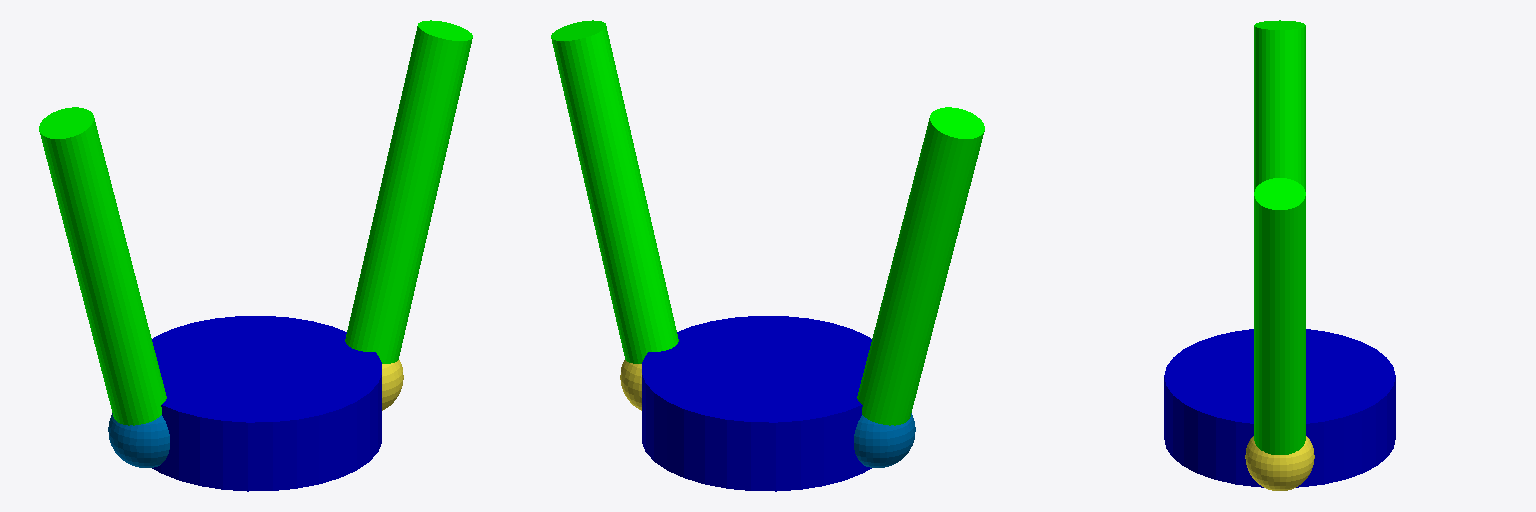
robot.urdf — gripper_2f_1j:
<?xml version='1.0' encoding='UTF-8'?>
<robot name="gripper_2f_1j">
  <link name="palm">
    <inertial>
      <origin xyz="0.0 0.0 0.0" rpy="0.0 -0.0 0.0"/>
      <mass value="1.0"/>
      <inertia ixx="1.0" ixy="0.0" ixz="0.0" iyy="1.0" iyz="0.0" izz="1.0"/>
    </inertial>
    <visual>
      <geometry>
        <cylinder radius="0.05" length="0.03"/>
      </geometry>
      <material name="blue"/>
      <origin xyz="0.0 0.0 0.0" rpy="0.0 -0.0 0.0"/>
    </visual>
    <collision>
      <geometry>
        <cylinder radius="0.05" length="0.03"/>
      </geometry>
      <origin xyz="0.0 0.0 0.0" rpy="0.0 0.0 0.0"/>
    </collision>
  </link>
  <link name="f11">
    <inertial>
      <origin xyz="0.0 0.0 0.0" rpy="0.0 -0.0 0.0"/>
      <mass value="1.0"/>
      <inertia ixx="1.0" ixy="0.0" ixz="0.0" iyy="1.0" iyz="0.0" izz="1.0"/>
    </inertial>
    <visual>
      <geometry>
        <cylinder radius="0.011155276690076148" length="0.14670515770586923"/>
      </geometry>
      <material name="green"/>
      <origin xyz="0.0 0.0 0.07335257885293461" rpy="0.0 -0.0 0.0"/>
    </visual>
    <collision>
      <geometry>
        <cylinder radius="0.011155276690076148" length="0.14670515770586923"/>
      </geometry>
      <origin xyz="0.0 0.0 0.05" rpy="0.0 0.0 0.0"/>
    </collision>
  </link>
  <link name="f21">
    <inertial>
      <origin xyz="0.0 0.0 0.0" rpy="0.0 -0.0 0.0"/>
      <mass value="1.0"/>
      <inertia ixx="1.0" ixy="0.0" ixz="0.0" iyy="1.0" iyz="0.0" izz="1.0"/>
    </inertial>
    <visual>
      <geometry>
        <cylinder radius="0.011155276690076148" length="0.14670515770586923"/>
      </geometry>
      <material name="green"/>
      <origin xyz="0.0 0.0 0.07335257885293461" rpy="0.0 -0.0 0.0"/>
    </visual>
    <collision>
      <geometry>
        <cylinder radius="0.011155276690076148" length="0.14670515770586923"/>
      </geometry>
      <origin xyz="0.0 0.0 0.05" rpy="0.0 0.0 0.0"/>
    </collision>
  </link>
  <link name="f11_base">
    <inertial>
      <origin xyz="0.0 0.0 0.0" rpy="0.0 -0.0 0.0"/>
      <mass value="1.0"/>
      <inertia ixx="1.0" ixy="0.0" ixz="0.0" iyy="1.0" iyz="0.0" izz="1.0"/>
    </inertial>
    <visual>
      <geometry>
        <sphere radius="0.015"/>
      </geometry>
      <origin xyz="0.0 0.0 0.0" rpy="0.0 -0.0 0.0"/>
    </visual>
  </link>
  <link name="f21_base">
    <inertial>
      <origin xyz="0.0 0.0 0.0" rpy="0.0 -0.0 0.0"/>
      <mass value="1.0"/>
      <inertia ixx="1.0" ixy="0.0" ixz="0.0" iyy="1.0" iyz="0.0" izz="1.0"/>
    </inertial>
    <visual>
      <geometry>
        <sphere radius="0.015"/>
      </geometry>
      <origin xyz="0.0 0.0 0.0" rpy="0.0 -0.0 0.0"/>
    </visual>
  </link>
  <joint name="f11_joint" type="revolute">
    <dynamics damping="100.0" friction="1.0"/>
    <limit effort="30.0" velocity="2.0" lower="-0.6" upper="0.25"/>
    <parent link="f11_base"/>
    <child link="f11"/>
    <axis xyz="0. 1. 0."/>
    <origin xyz="0.0 0.0 0.0" rpy="0.0 0.25 0.0"/>
  </joint>
  <joint name="f21_joint" type="revolute">
    <dynamics damping="100.0" friction="1.0"/>
    <limit effort="30.0" velocity="2.0" lower="-0.6" upper="0.25"/>
    <parent link="f21_base"/>
    <child link="f21"/>
    <axis xyz=" 0. -1.  0."/>
    <origin xyz="0.0 0.0 0.0" rpy="0.0 -0.25 0.0"/>
  </joint>
  <joint name="f11_base_joint" type="fixed">
    <parent link="palm"/>
    <child link="f11_base"/>
    <axis xyz="1. 0. 0."/>
    <origin xyz="0.05 0.0 0.0" rpy="0.0 0.0 0.0"/>
  </joint>
  <joint name="f21_base_joint" type="fixed">
    <parent link="palm"/>
    <child link="f21_base"/>
    <axis xyz="1. 0. 0."/>
    <origin xyz="-0.05 -0.0 0.0" rpy="0.0 0.0 0.0"/>
  </joint>
  <material name="blue">
    <color rgba="0.  0.  0.8 1. "/>
  </material>
  <material name="green">
    <color rgba="0. 1. 0. 1."/>
  </material>
</robot>

--- What the picture shows (computed from the rendered views, not written in the file) ---
Views: 3 orthographic renders of the robot side by side, from view 1: azimuth 30°, elevation 25°; view 2: azimuth 150°, elevation 25°; view 3: azimuth 270°, elevation 25°.
Robot: gripper_2f_1j — 5 links, 4 joints (2 revolute, 2 fixed); root link palm; default pose: all joints at 0.
Links seen in each view (by area): view 1: palm, f11, f21, f21_base, f11_base; view 2: palm, f11, f21, f21_base, f11_base; view 3: palm, f11, f21, f11_base.
Link boxes in pixels (box(x1,y1,x2,y2)): palm: box(152, 316, 381, 491); f11: box(345, 20, 472, 363); f21: box(39, 107, 166, 425); f21_base: box(108, 413, 169, 467); f11_base: box(382, 360, 403, 410); palm: box(642, 316, 871, 491); f11: box(551, 20, 678, 363); f21: box(857, 107, 984, 425); f21_base: box(854, 413, 915, 467); f11_base: box(620, 360, 641, 410); palm: box(1164, 329, 1395, 487); f11: box(1254, 178, 1305, 454); f21: box(1254, 20, 1305, 191); f11_base: box(1245, 436, 1314, 490).
Bounding box of the posed robot: 0.1942 × 0.1 × 0.1599 m (x, y, z).
Geometry: primitives only (box / cylinder / sphere), no mesh files.